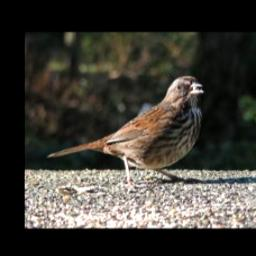Sparrow: (45, 72, 208, 189)
